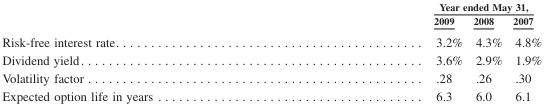table: (1, 0, 541, 102)
table column: (1, 0, 292, 102), (292, 0, 467, 102), (467, 0, 506, 102), (506, 0, 541, 102)
table column header: (1, 0, 541, 30)
table row: (1, 30, 541, 50), (1, 50, 541, 68), (1, 68, 541, 86), (1, 13, 541, 30), (1, 86, 541, 102), (1, 0, 541, 13)
table spanning cell: (292, 0, 541, 13)
